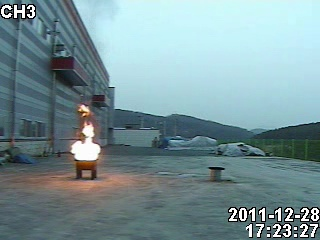fire: (70, 101, 103, 164)
